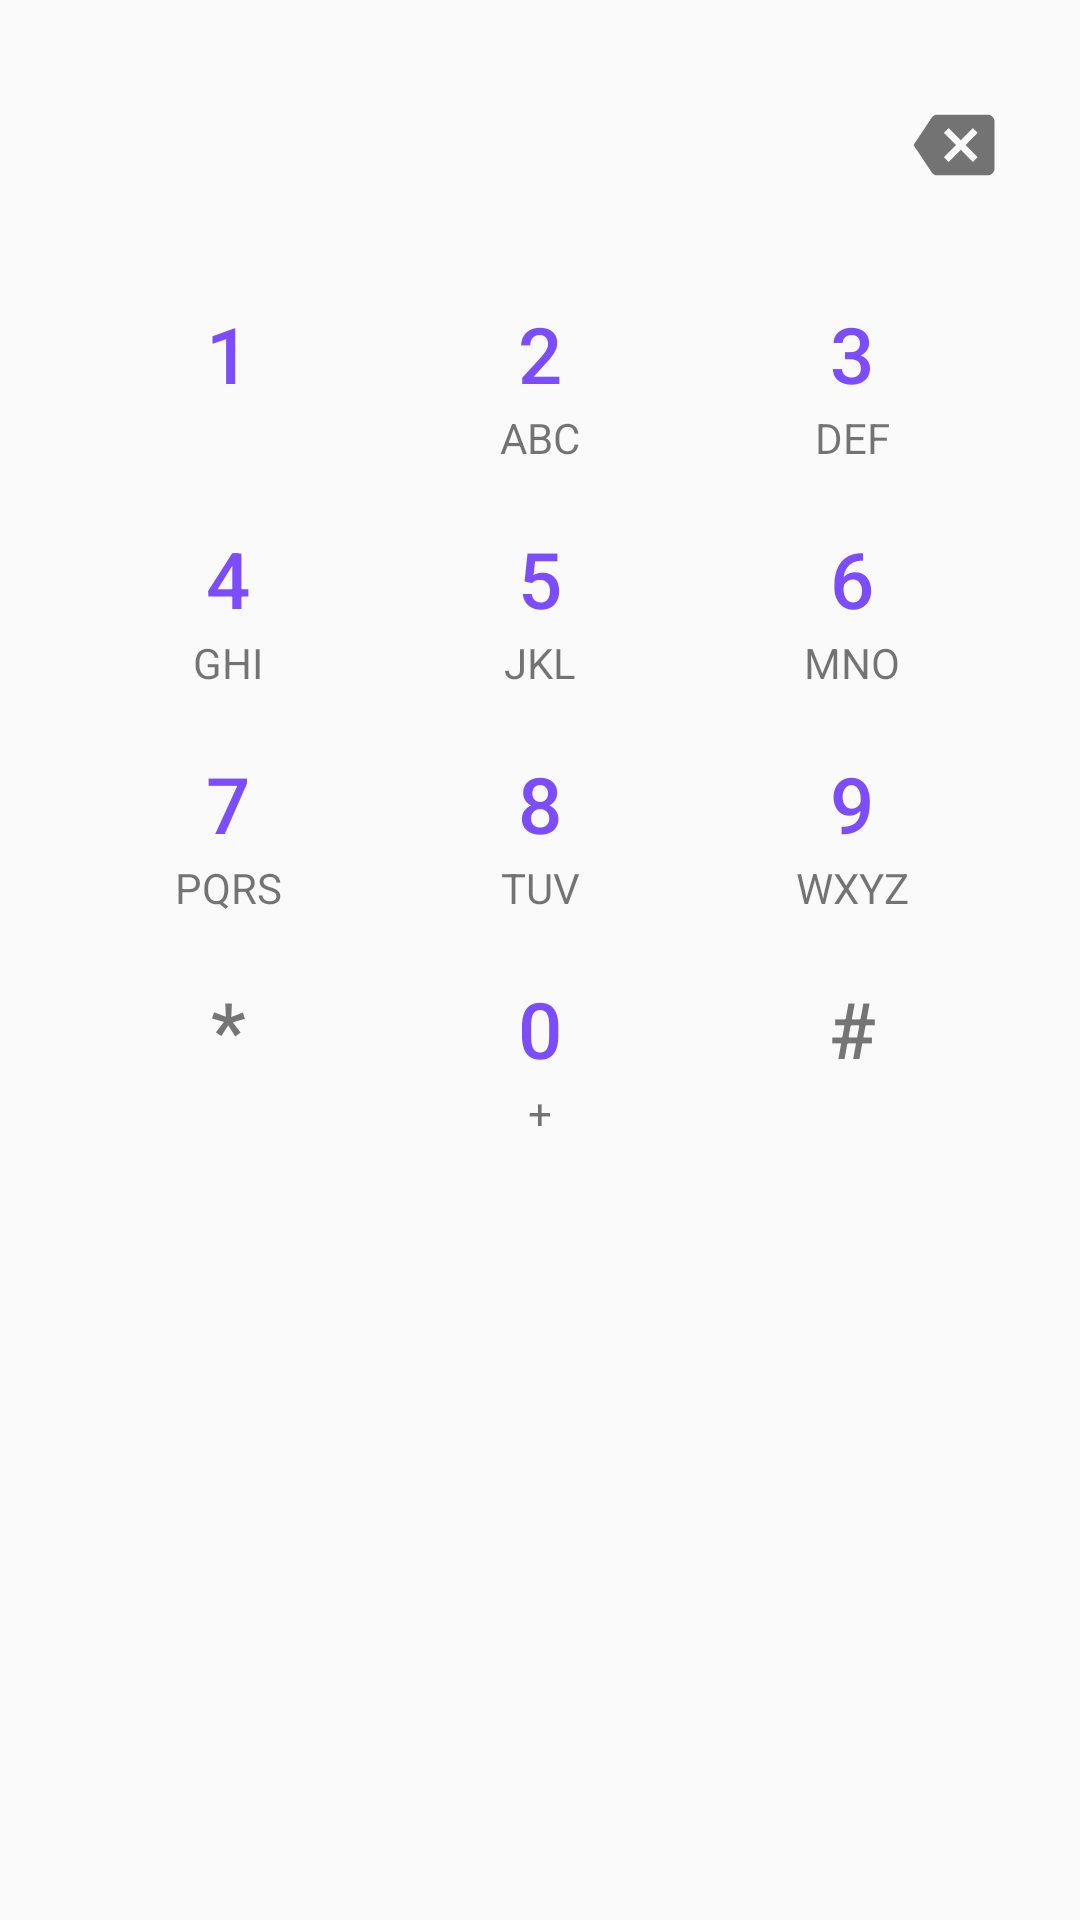

Screen size 1080*1920. Icon name, then its center in pixels as [x,y]:
Backspace: [954,145]
